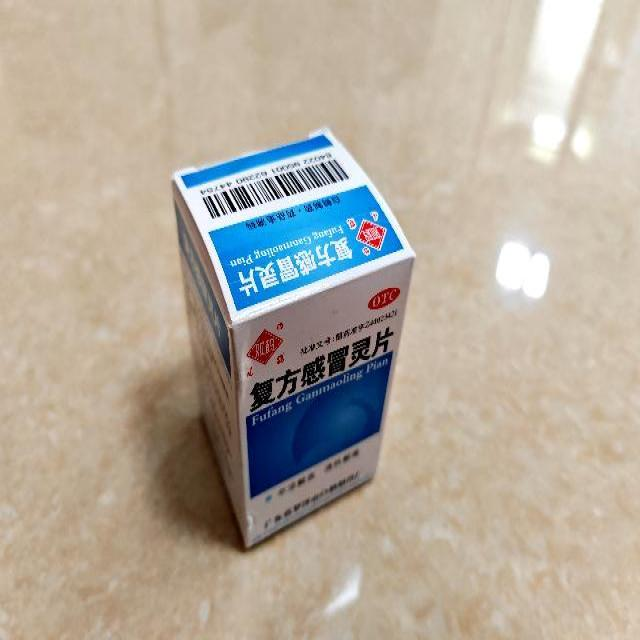box: (171, 128, 415, 550)
